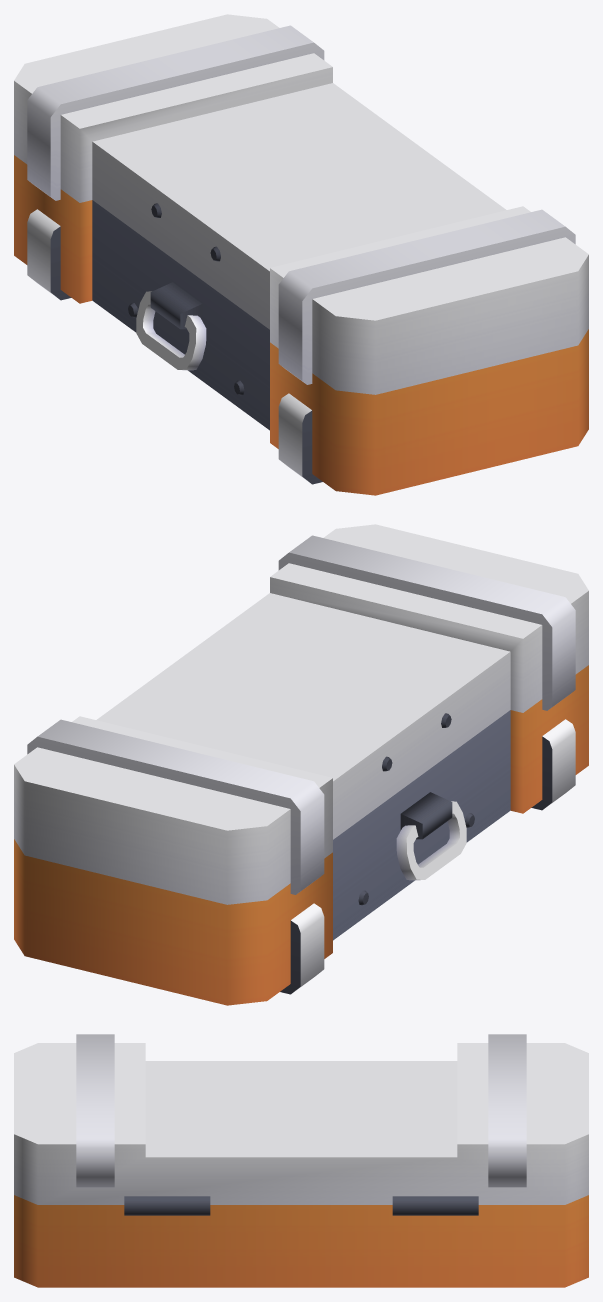
The model's file is crate-wide.glb.
3 renders of one model, top to bottom at view 1: azimuth 30°, elevation 25°; view 2: azimuth 150°, elevation 25°; view 3: azimuth 270°, elevation 25°, orthographic. The views are drawn at different scales.
Visible parts, largest first — view 1: lid, crate-wide; view 2: lid, crate-wide; view 3: lid, crate-wide.
Boxes of the visible parts, x1,y1,x2,y2 form: lid: (14,14,588,394); crate-wide: (14,155,588,495); lid: (14,524,588,904); crate-wide: (14,665,588,1005); lid: (14,1034,588,1204); crate-wide: (14,1195,588,1287).
Bounding box in the file's own units: 0.5495 × 0.37 × 1.2.
1 material, 1 textured.
